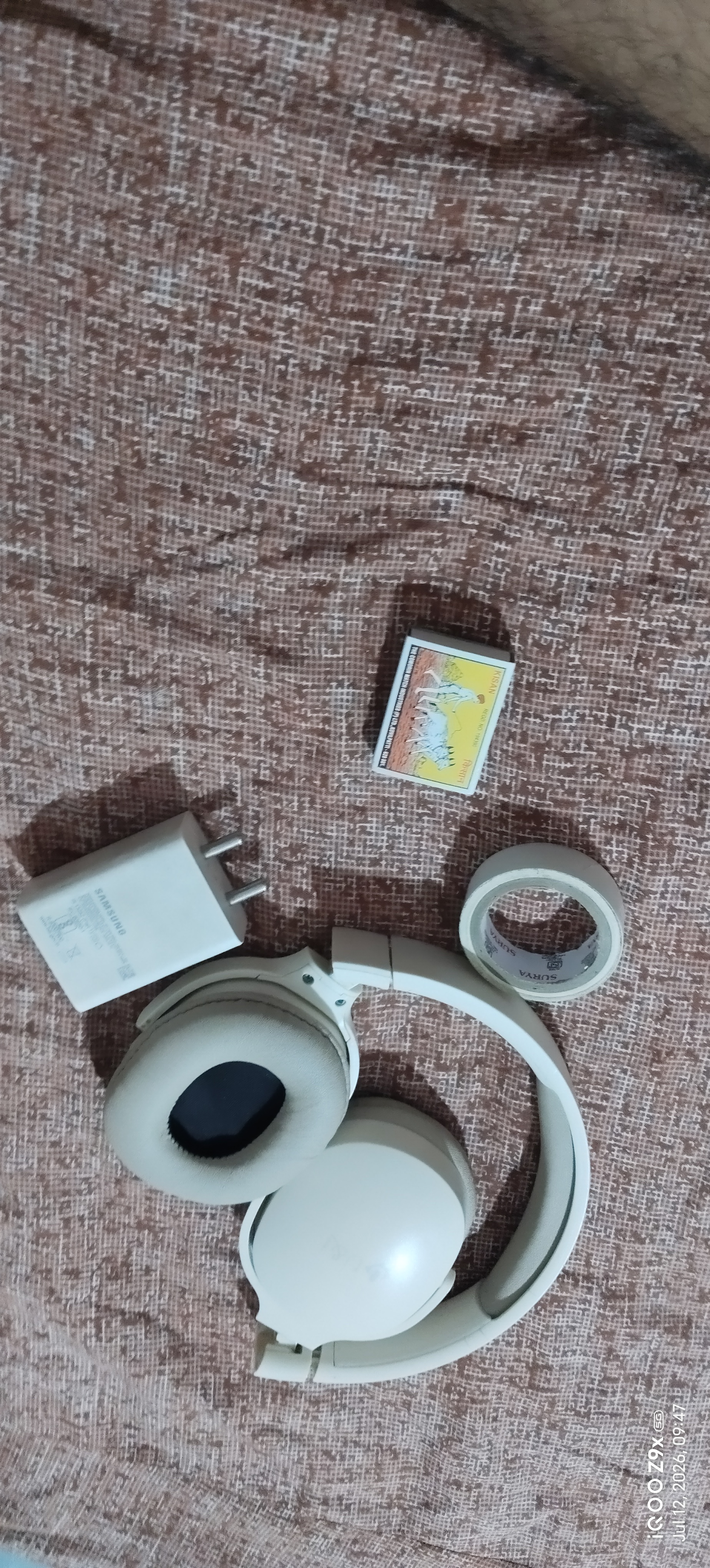charger: (9, 799, 272, 1017)
matchbox: (367, 611, 524, 802)
tape_roll: (452, 829, 639, 1018)
